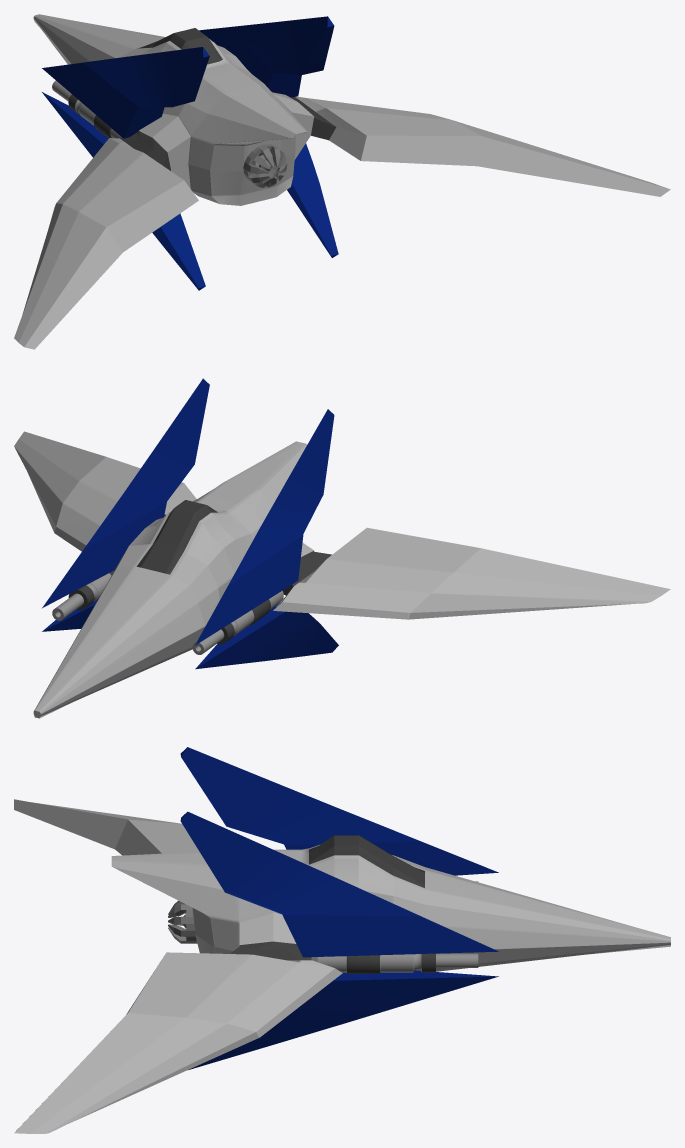
Rendered from arwing_v1_smoothed.fbx.
The picture shows the model from 3 angles, top to bottom: view 1: azimuth 30°, elevation 25°; view 2: azimuth 150°, elevation 25°; view 3: azimuth 270°, elevation 25°; orthographic projection. The views are drawn at different scales.
Visible parts, largest first — view 1: pasted__pCylinder1; view 2: pasted__pCylinder1; view 3: pasted__pCylinder1.
Boxes of the visible parts, x1=… form: pasted__pCylinder1: x1=14, y1=14, x2=670, y2=349; pasted__pCylinder1: x1=14, y1=378, x2=670, y2=718; pasted__pCylinder1: x1=14, y1=747, x2=670, y2=1133.
Size of the model in its own units: 155 by 55.43 by 128.
